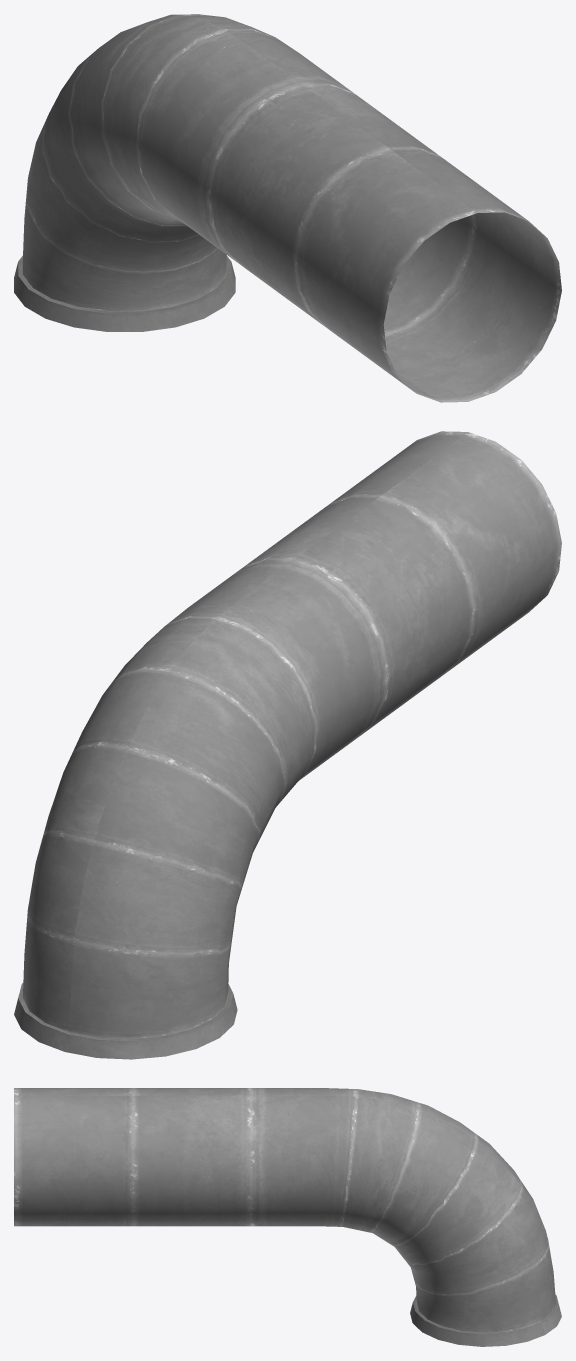
The model's file is SM_Air_Vent_01k.glb.
3 views of the same model, one above another, from view 1: azimuth 30°, elevation 25°; view 2: azimuth 150°, elevation 25°; view 3: azimuth 270°, elevation 25° (orthographic). The views are drawn at different scales.
Parts seen in each view (by area): view 1: SM_Air_Vent_01k; view 2: SM_Air_Vent_01k; view 3: SM_Air_Vent_01k.
Boxes of the visible parts, x1,y1,x2,y2 form: SM_Air_Vent_01k: (14, 14, 561, 402); SM_Air_Vent_01k: (14, 431, 561, 1059); SM_Air_Vent_01k: (14, 1088, 561, 1346).
Bounding box in the file's own units: 0.3219 × 0.5302 × 1.16.
1 material, 1 textured.
